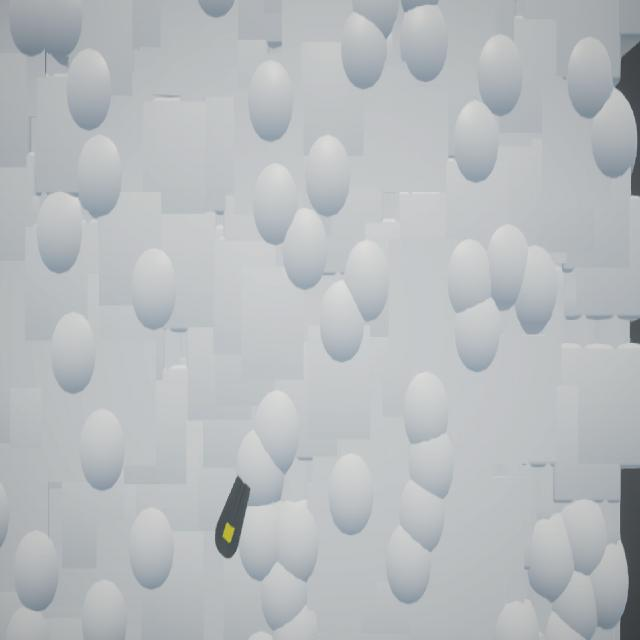handle_folk: (216, 477, 252, 560)
